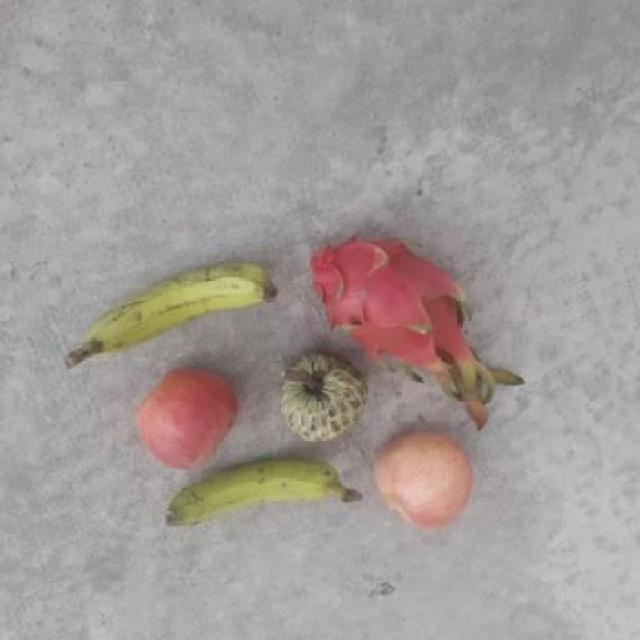apple: (135, 367, 240, 470), (370, 433, 468, 532)
banana: (82, 257, 282, 361), (168, 454, 346, 538)
dragon fruit: (302, 227, 464, 361)
sugar apple: (275, 356, 367, 446)
